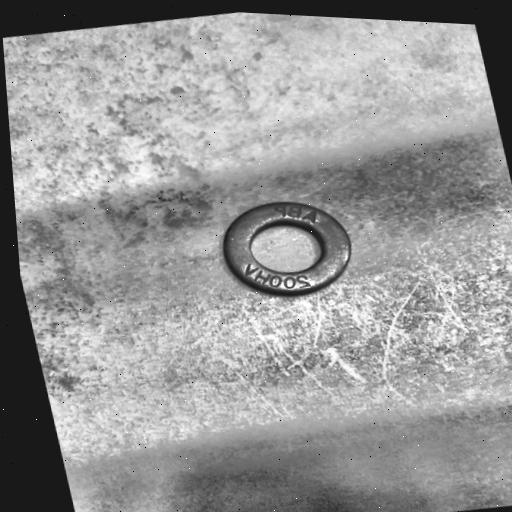Washer: (222, 201, 353, 296)
